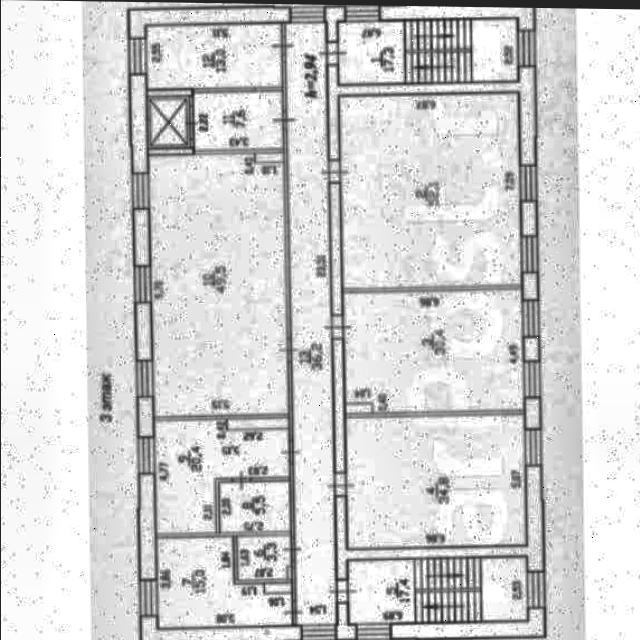room: (152, 149, 288, 413), (340, 92, 522, 287), (289, 20, 335, 623), (346, 413, 526, 547), (342, 288, 524, 412), (154, 415, 290, 530), (156, 533, 291, 625), (347, 556, 526, 622), (339, 20, 519, 83), (148, 20, 283, 86), (197, 89, 284, 148), (219, 479, 289, 530), (236, 533, 291, 578), (149, 96, 186, 142)
